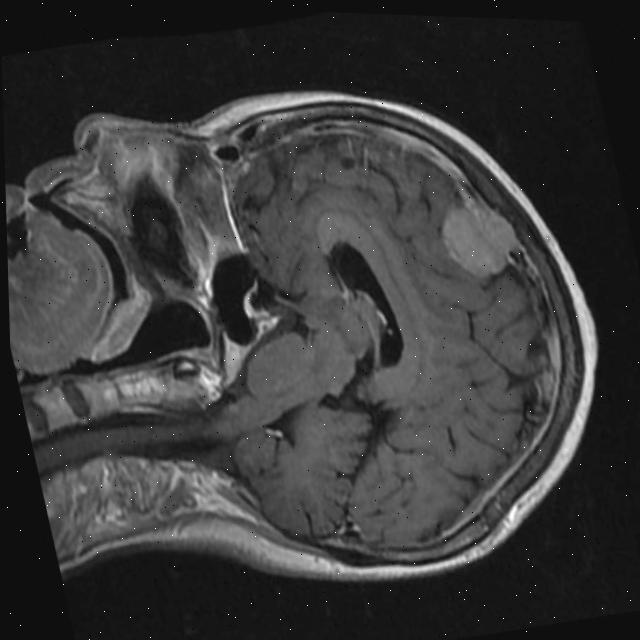Meningioma: (432, 184, 530, 285)
